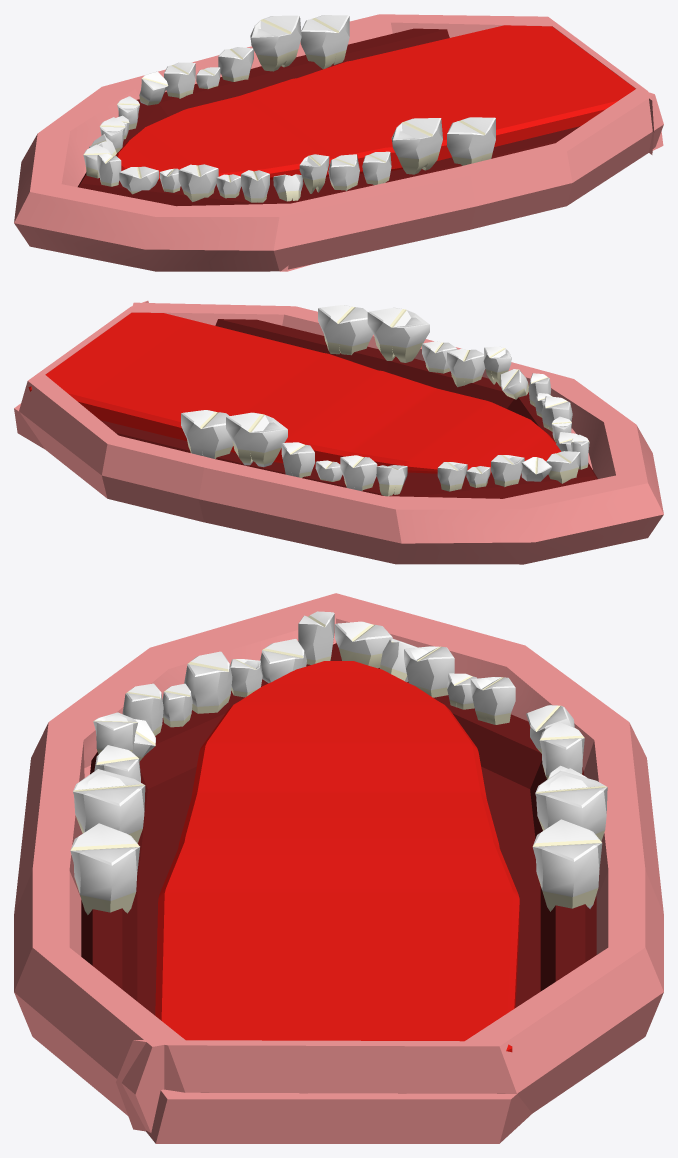
File: mouth.fbx
3 views of the same model, one above another, from view 1: azimuth 30°, elevation 25°; view 2: azimuth 150°, elevation 25°; view 3: azimuth 270°, elevation 25° (orthographic). The views are drawn at different scales.
Parts seen in each view (by area): view 1: polySurface49; view 2: polySurface49; view 3: polySurface49.
Part boxes in pixels (left/top/right/bottom): polySurface49: left=14, top=14, right=663, bottom=271; polySurface49: left=14, top=300, right=663, bottom=564; polySurface49: left=14, top=593, right=663, bottom=1143.
Bounding box in the file's own units: 1178 × 177 × 683.
